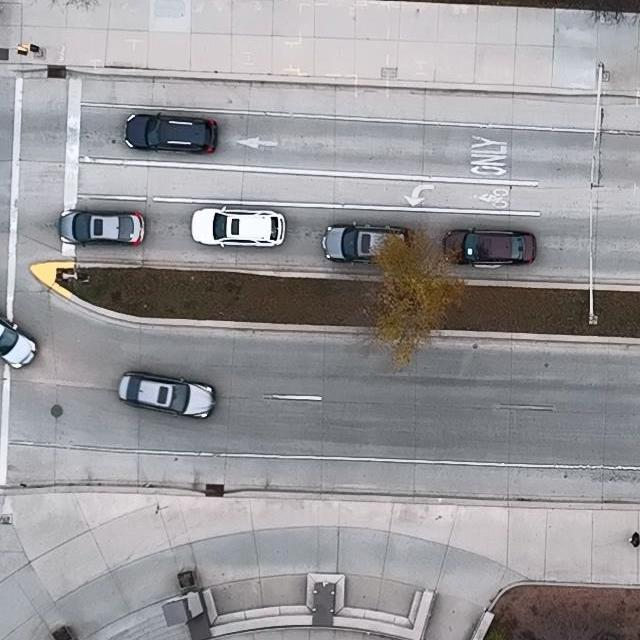car: (117, 370, 215, 419), (323, 222, 412, 269), (124, 111, 218, 154), (190, 206, 286, 248), (443, 226, 537, 266), (58, 206, 146, 246), (0, 311, 37, 370)
